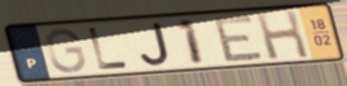1: (176, 17, 210, 67)
E: (212, 13, 267, 64)
G: (44, 26, 89, 75)
H: (253, 8, 313, 62)
J: (138, 20, 173, 67)
L: (86, 25, 131, 72)
